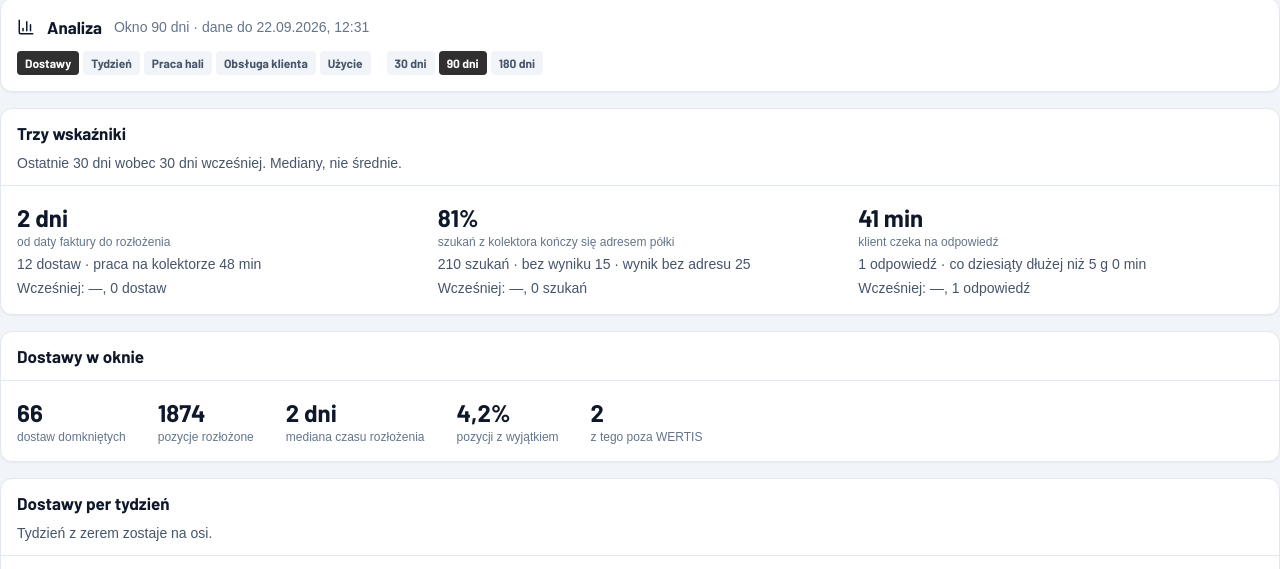
Scenario: Analiza w panelu › ergonomia w liczbach stoi w pracy hali, słucha jej okna i nie idzie z innych zakresów
Click the button "Praca hali". click: (178,63)
box: x1=144 y1=51 x2=212 y2=75
(page scrolled)
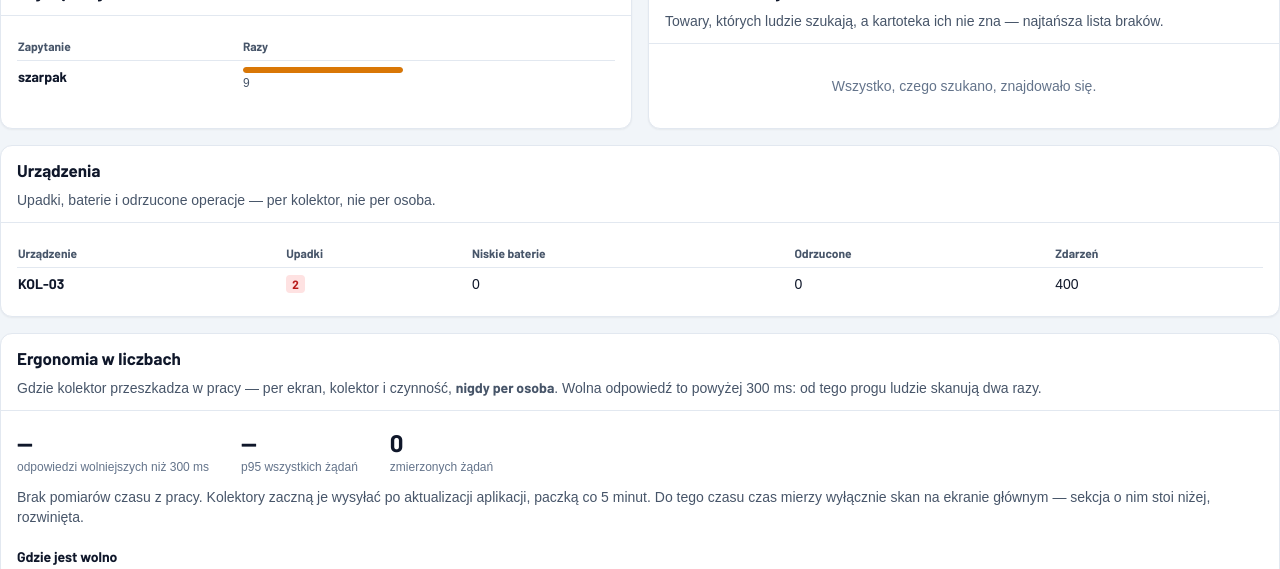
Now the heading "Ergonomia w liczbach" is shown, box x1=17 y1=346 x2=181 y2=370
